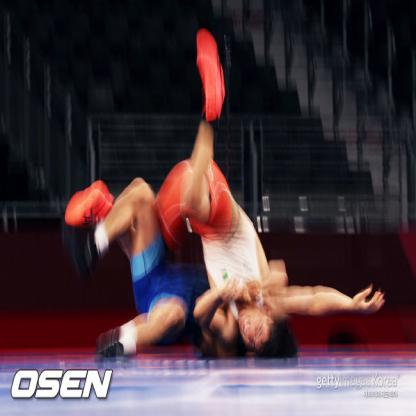Fall_Down: (65, 27, 386, 361)
